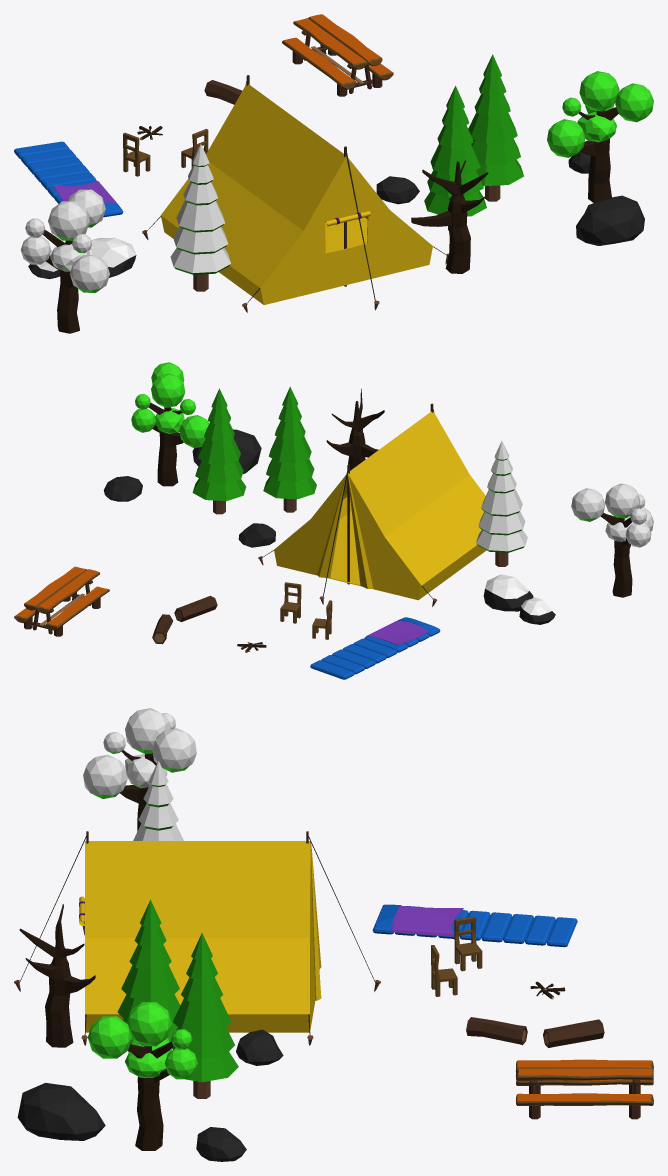
Rendered from camping.obj.
3 renders of one model, top to bottom at view 1: azimuth 30°, elevation 25°; view 2: azimuth 150°, elevation 25°; view 3: azimuth 270°, elevation 25°, orthographic. The views are drawn at different scales.
Visible parts, largest first — view 1: Plane.002, Cone, Cylinder.022, Cone.002, Cube.014, Cylinder.016, Cylinder.015, Cylinder.017, Icosphere.003, Cube.002, Cylinder.019, Icosphere.001 (+6 smaller); view 2: Plane.002, Cone, Cone.002, Cylinder.022, Cube.014, Cylinder.017, Cube.002, Cylinder.015, Cylinder.016, Icosphere.001, Cylinder.019, Icosphere.003 (+7 smaller); view 3: Plane.002, Cone, Cylinder.022, Cube.014, Icosphere.003, Cylinder.015, Cube.002, Cylinder.016, Cylinder.017, Cone.002, Plane.001, Icosphere.004 (+6 smaller).
Part boxes in pixels (x1,y1,x2,y2): Plane.002: (160,83,432,304); Cone: (424,54,523,216); Cylinder.022: (21,189,109,290); Cone.002: (170,144,230,273); Cube.014: (282,14,393,93); Cylinder.016: (411,160,488,273); Cylinder.015: (579,83,653,202); Cylinder.017: (547,71,619,157); Icosphere.003: (576,195,644,245); Cube.002: (14,141,97,203); Cylinder.019: (43,230,79,333); Icosphere.001: (89,237,136,277); Plane.002: (274,411,486,600); Cone: (192,386,316,501); Cone.002: (476,441,527,551); Cylinder.022: (571,483,653,547); Cube.014: (14,566,109,634); Cylinder.017: (131,373,209,448); Cube.002: (310,633,429,679); Cylinder.015: (148,362,184,486); Cylinder.016: (326,388,384,470); Icosphere.001: (483,574,533,611); Cylinder.019: (600,513,632,597); Icosphere.003: (192,429,261,473); Plane.002: (85,841,321,1032); Cone: (117,900,238,1082); Cylinder.022: (83,708,196,795); Cube.014: (516,1059,653,1105); Icosphere.003: (17,1082,105,1140); Cylinder.015: (87,1016,173,1150); Cube.002: (394,906,577,947); Cylinder.016: (19,904,95,1047); Cylinder.017: (126,1002,197,1079); Cone.002: (133,761,183,840); Plane.001: (391,905,463,936); Icosphere.004: (196,1127,246,1161).
Bounding box in the file's own units: 12.97 × 3.1 × 10.43.
1 material, 1 textured.
